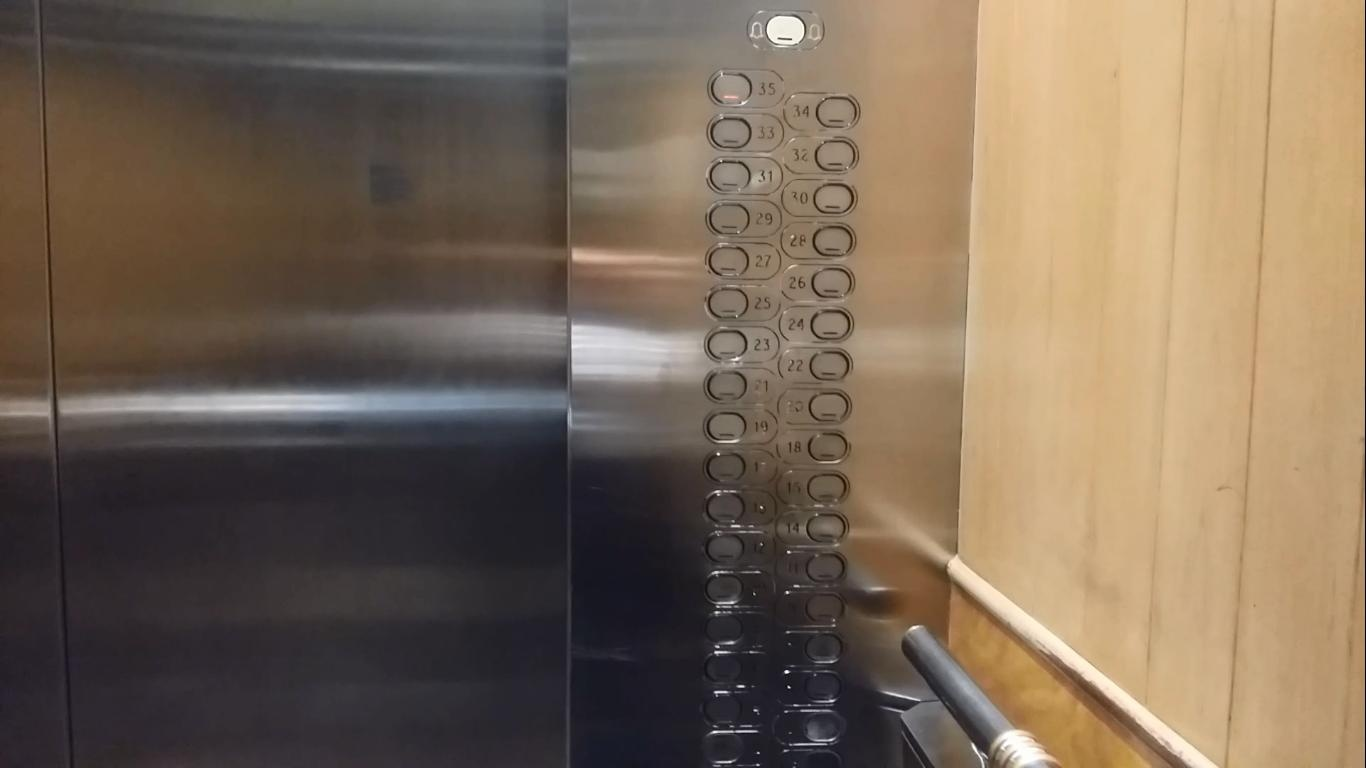11: (774, 546, 851, 586)
14: (775, 505, 854, 548)
15: (774, 465, 853, 507)
18: (774, 425, 854, 467)
19: (700, 404, 782, 448)
21: (700, 363, 783, 408)
22: (776, 344, 855, 385)
23: (700, 323, 781, 366)
24: (778, 301, 856, 345)
25: (701, 281, 783, 324)
26: (779, 261, 859, 303)
27: (702, 239, 783, 282)
28: (778, 218, 859, 261)
29: (701, 196, 785, 240)
30: (780, 175, 861, 219)
31: (702, 153, 786, 198)
32: (781, 132, 862, 177)
33: (703, 109, 786, 154)
34: (782, 88, 863, 133)
35: (705, 64, 791, 110)
alarm: (744, 7, 827, 54)
blur: (777, 385, 854, 427)
empty: (699, 683, 774, 728), (772, 704, 845, 746), (774, 625, 846, 667), (774, 587, 849, 627), (702, 486, 777, 525), (701, 568, 774, 608), (701, 446, 777, 484), (703, 527, 773, 567), (699, 728, 769, 768), (702, 609, 773, 648), (701, 648, 774, 685), (774, 667, 843, 705)
